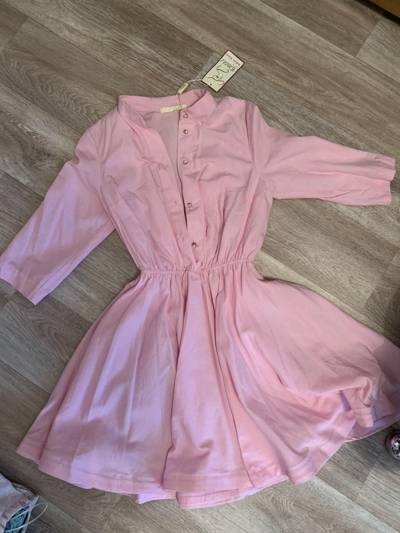Dress: (4, 74, 400, 501)
